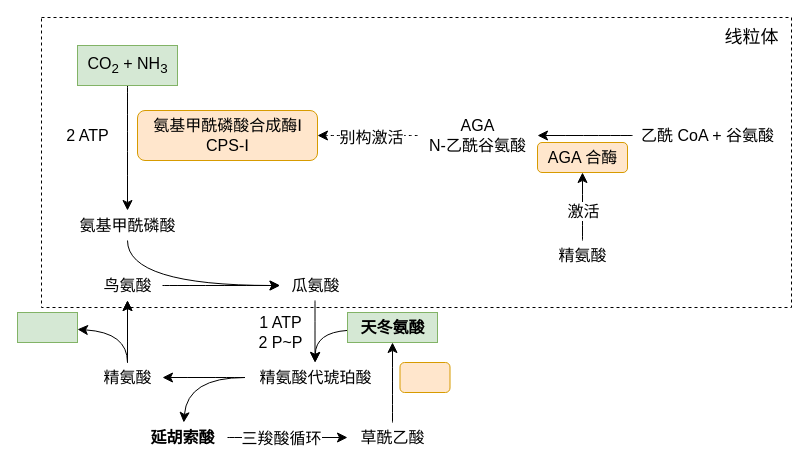
Image size: 809x470. Some labels were removed from this diagram. Each missing label, with the box of its shape:
AST: (399, 362, 450, 392)
尿素: (16, 312, 78, 342)
